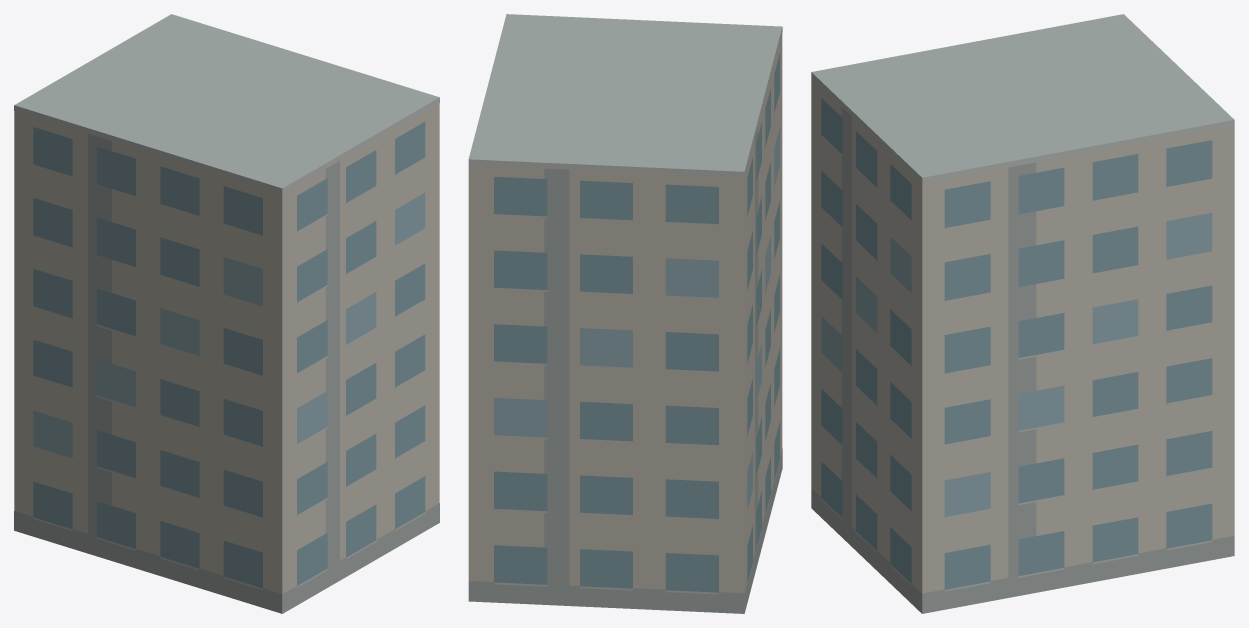
The model's file is survey-upis-32881044.glb.
3 renders of one model, left to right at view 1: azimuth 30°, elevation 25°; view 2: azimuth 150°, elevation 25°; view 3: azimuth 270°, elevation 25°, orthographic. The views are drawn at different scales.
Parts seen in each view (by area): view 1: survey-upis-32881044.tmp; view 2: survey-upis-32881044.tmp; view 3: survey-upis-32881044.tmp.
Part boxes in pixels (x1=…): survey-upis-32881044.tmp: x1=14, y1=14, x2=439, y2=613; survey-upis-32881044.tmp: x1=468, y1=14, x2=782, y2=613; survey-upis-32881044.tmp: x1=811, y1=14, x2=1234, y2=613.
Bounding box in the file's own units: 14.83 × 18.4 × 16.19.
